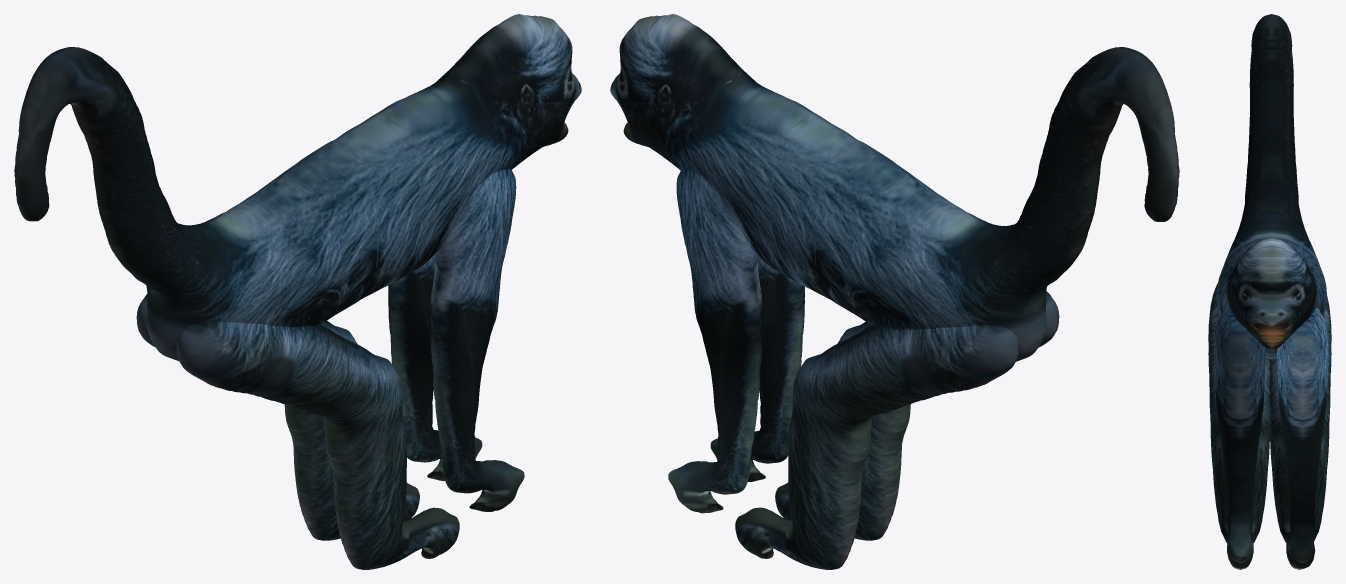
Rendered from black-spider-monkey.glb.
3 renders of one model, left to right at view 1: azimuth 30°, elevation 25°; view 2: azimuth 150°, elevation 25°; view 3: azimuth 270°, elevation 25°, orthographic. The views are drawn at different scales.
Parts seen in each view (by area): view 1: mm_frame (36); view 2: mm_frame (36); view 3: mm_frame (36).
Boxes of the visible parts, left/top/right/bottom form: mm_frame (36): left=14, top=14, right=581, bottom=569; mm_frame (36): left=610, top=14, right=1179, bottom=569; mm_frame (36): left=1208, top=14, right=1331, bottom=569.
Size of the model in its own units: 6.25 by 6.1 by 1.59.
1 material, 1 textured.
